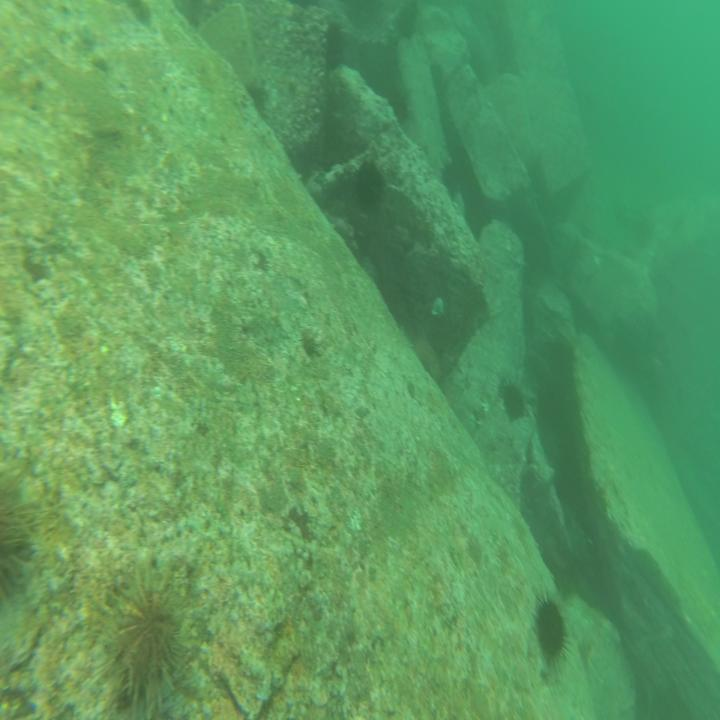echinus: (88, 563, 195, 712), (1, 468, 29, 594), (413, 278, 458, 345), (530, 596, 568, 665), (354, 156, 387, 215), (498, 373, 525, 423), (440, 154, 461, 206), (320, 21, 342, 70)
